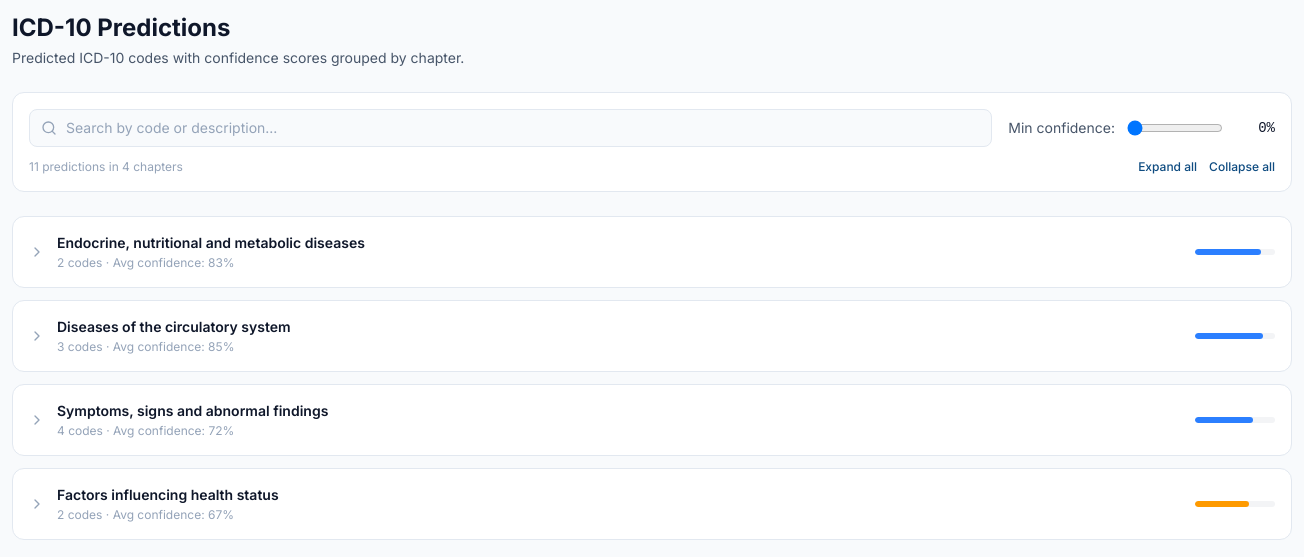
Test: ICDResults › filters predictions by code search
Step 1. Type "E11" into the field with placeholder "Search by code or description..." → (511, 128), box x1=29 y1=109 x2=992 y2=147
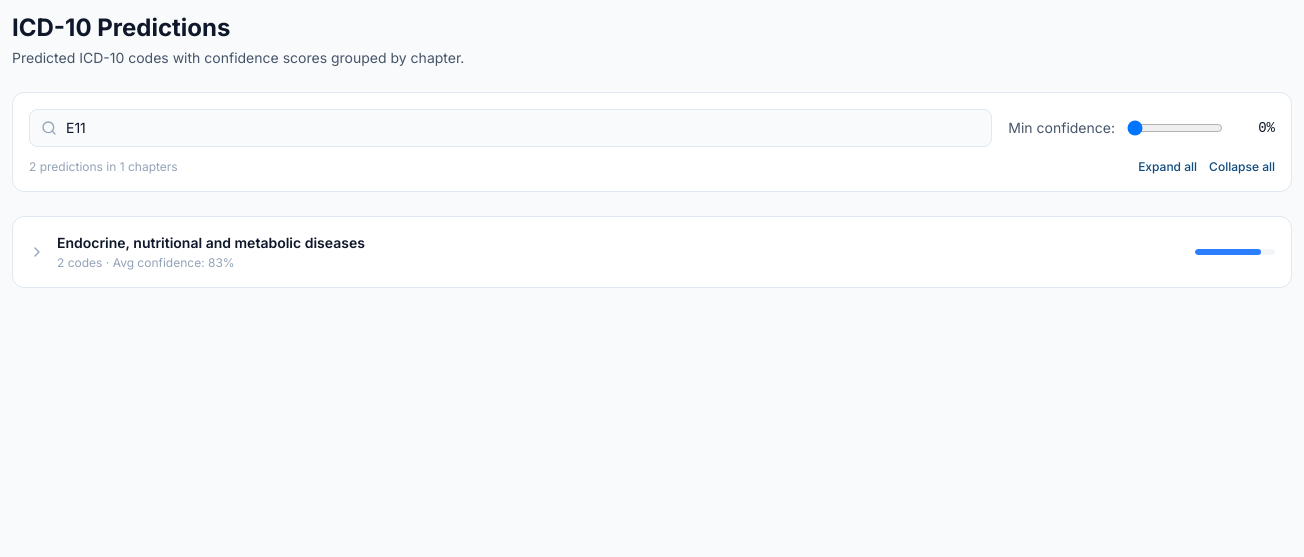
Result: the text "2 predictions in 1 chapters" is shown at x1=29 y1=159 x2=178 y2=175
